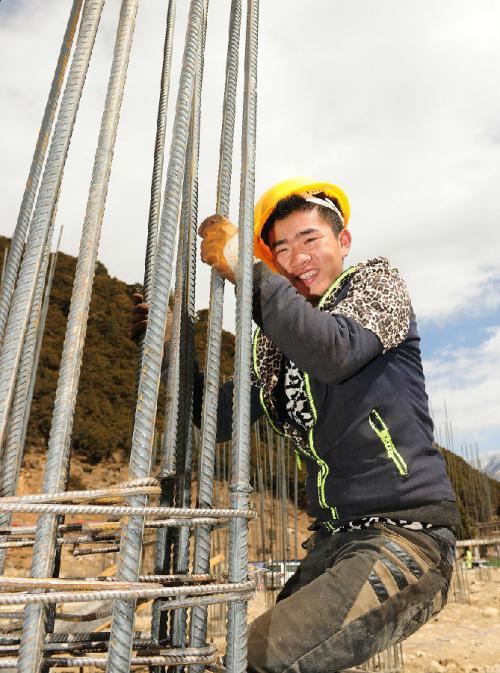helmet: (244, 164, 370, 296)
